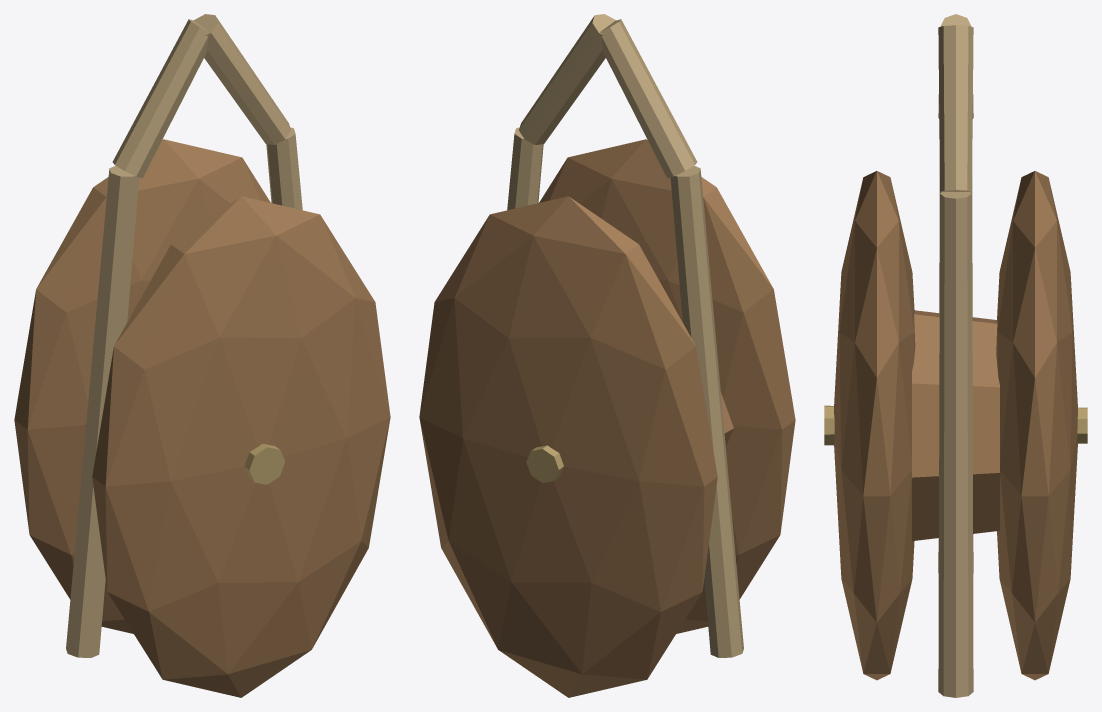
3 views of the same model, side by side, from view 1: azimuth 30°, elevation 25°; view 2: azimuth 150°, elevation 25°; view 3: azimuth 270°, elevation 25° (orthographic).
Visible parts, largest first — view 1: CE-044 Wooden sail pulley block batched; view 2: CE-044 Wooden sail pulley block batched; view 3: CE-044 Wooden sail pulley block batched.
Part boxes in pixels (<box>): CE-044 Wooden sail pulley block batched: <box>14,14,390,697</box>; CE-044 Wooden sail pulley block batched: <box>419,14,795,697</box>; CE-044 Wooden sail pulley block batched: <box>824,14,1087,697</box>.
Size of the model in its own units: 0.1902 by 0.4153 by 0.15.
